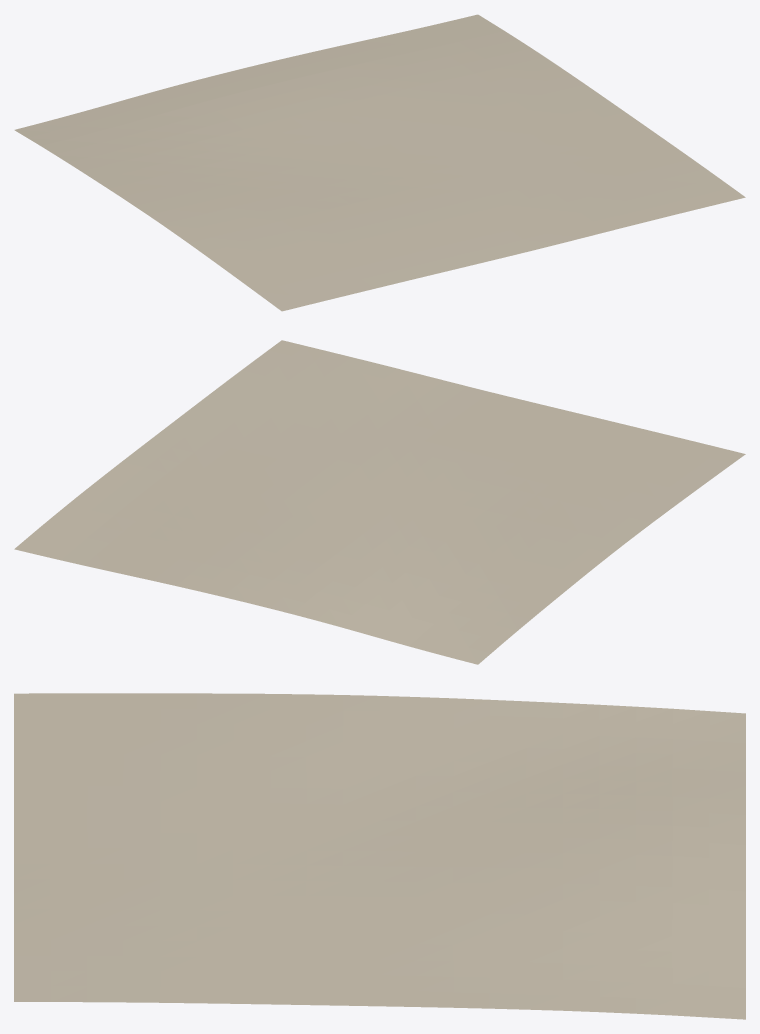
Rendered from bolak_-11_-14.glb.
The picture shows the model from 3 angles, top to bottom: view 1: azimuth 30°, elevation 25°; view 2: azimuth 150°, elevation 25°; view 3: azimuth 270°, elevation 25°; orthographic projection. The views are drawn at different scales.
Parts seen in each view (by area): view 1: Yer_Tuproq-col; view 2: Yer_Tuproq-col; view 3: Yer_Tuproq-col.
Part boxes in pixels (<box>): Yer_Tuproq-col: <box>14,14,745,311</box>; Yer_Tuproq-col: <box>14,340,745,664</box>; Yer_Tuproq-col: <box>14,693,745,1019</box>.
Size of the model in its own units: 400 by 12.68 by 400.
